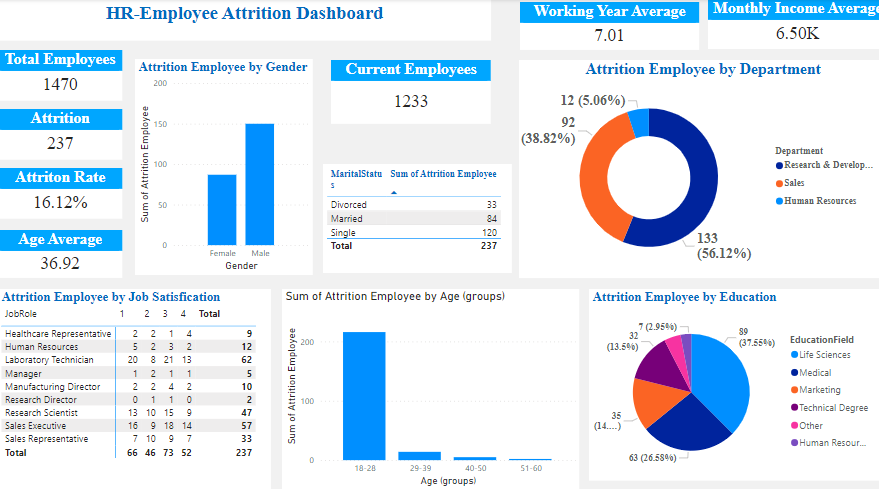

What the dashboard file says about the page in this screenshot:
{"tool":"powerbi","page":{"name":"Page 1","canvas":[1280,720],"ordinal":0},"visuals":[{"type":"textbox","box":[0,0,709.9,60.5],"z":0},{"type":"card","title":"Total Employees","fields":{"Values":["Sum(HR-Employee-Attrition.EmployeeCount)"]},"box":[0,73.4,178.6,73.4],"z":1000},{"type":"card","title":"Attrition","fields":{"Values":["Sum(HR-Employee-Attrition.Attrition Employee)"]},"box":[0,159.1,178.8,73.3],"z":2000},{"type":"card","title":"Current Employees","fields":{"Values":["HR-Employee-Attrition.Current Employees"]},"box":[479.5,87.8,230.4,92.2],"z":3000},{"type":"card","title":"Attriton Rate","fields":{"Values":["HR-Employee-Attrition.Attrition Rate"]},"box":[0,243.1,178.8,73.3],"z":4000},{"type":"card","title":"Age Average","fields":{"Values":["Avg(HR-Employee-Attrition.Age)"]},"box":[0,332.6,178.6,69.1],"z":5000},{"type":"card","title":"Working Year Average","fields":{"Values":["Avg(HR-Employee-Attrition.YearsAtCompany)"]},"box":[751.7,4.3,257.8,69.1],"z":6000},{"type":"card","title":"Monthly Income Average","fields":{"Values":["Avg(HR-Employee-Attrition.MonthlyIncome)"]},"box":[1022.4,0,257.8,72],"z":7000},{"type":"donutChart","title":"Attrition Employee by Department","fields":{"Category":["HR-Employee-Attrition.Department"],"Y":["Sum(HR-Employee-Attrition.Attrition Employee)"]},"box":[750.2,87.8,529.9,313.9],"z":7001},{"type":"columnChart","title":"Attrition Employee by Gender","fields":{"Category":["HR-Employee-Attrition.Gender"],"Y":["Sum(HR-Employee-Attrition.Attrition Employee)"]},"box":[197.3,86.4,256.3,311],"z":7002},{"type":"pieChart","title":"Attrition Employee by Education","fields":{"Category":["HR-Employee-Attrition.EducationField"],"Y":["Sum(HR-Employee-Attrition.Attrition Employee)"]},"box":[851,417.6,417.6,276.5],"z":7003},{"type":"pivotTable","title":"Attrition Employee by Job Satisfication","fields":{"Columns":["HR-Employee-Attrition.JobSatisfaction"],"Values":["Sum(HR-Employee-Attrition.Attrition Employee)"],"Rows":["HR-Employee-Attrition.JobRole"]},"box":[0,417.6,393.1,289.4],"z":7004},{"type":"tableEx","title":"Attrition Employee by Gender","fields":{"Values":["HR-Employee-Attrition.MaritalStatus","Sum(HR-Employee-Attrition.Attrition Employee)"]},"box":[468,237.6,272.2,157],"z":7005},{"type":"columnChart","fields":{"Category":["HR-Employee-Attrition.Age (groups)"],"Y":["Sum(HR-Employee-Attrition.Attrition Employee)"]},"box":[409,417.6,427.7,289.4],"z":7006}]}

Visuals, with their boxes in screenshot pixels (x1, y1, x2, y2), scaled from the page's 1280x720 canvas onto the 879x489 screenshot:
textbox: (x1=0, y1=0, x2=488, y2=41)
"Total Employees" card: (x1=0, y1=50, x2=123, y2=100)
"Attrition" card: (x1=0, y1=108, x2=123, y2=158)
"Current Employees" card: (x1=329, y1=60, x2=488, y2=122)
"Attriton Rate" card: (x1=0, y1=165, x2=123, y2=215)
"Age Average" card: (x1=0, y1=226, x2=123, y2=273)
"Working Year Average" card: (x1=516, y1=3, x2=693, y2=50)
"Monthly Income Average" card: (x1=702, y1=0, x2=878, y2=49)
"Attrition Employee by Department" donutChart: (x1=515, y1=60, x2=878, y2=273)
"Attrition Employee by Gender" columnChart: (x1=135, y1=59, x2=311, y2=270)
"Attrition Employee by Education" pieChart: (x1=584, y1=284, x2=871, y2=471)
"Attrition Employee by Job Satisfication" pivotTable: (x1=0, y1=284, x2=270, y2=480)
"Attrition Employee by Gender" tableEx: (x1=321, y1=161, x2=508, y2=268)
columnChart - HR-Employee-Attrition.Age (groups) x Sum(HR-Employee-Attrition.Attrition Employee): (x1=281, y1=284, x2=575, y2=480)
